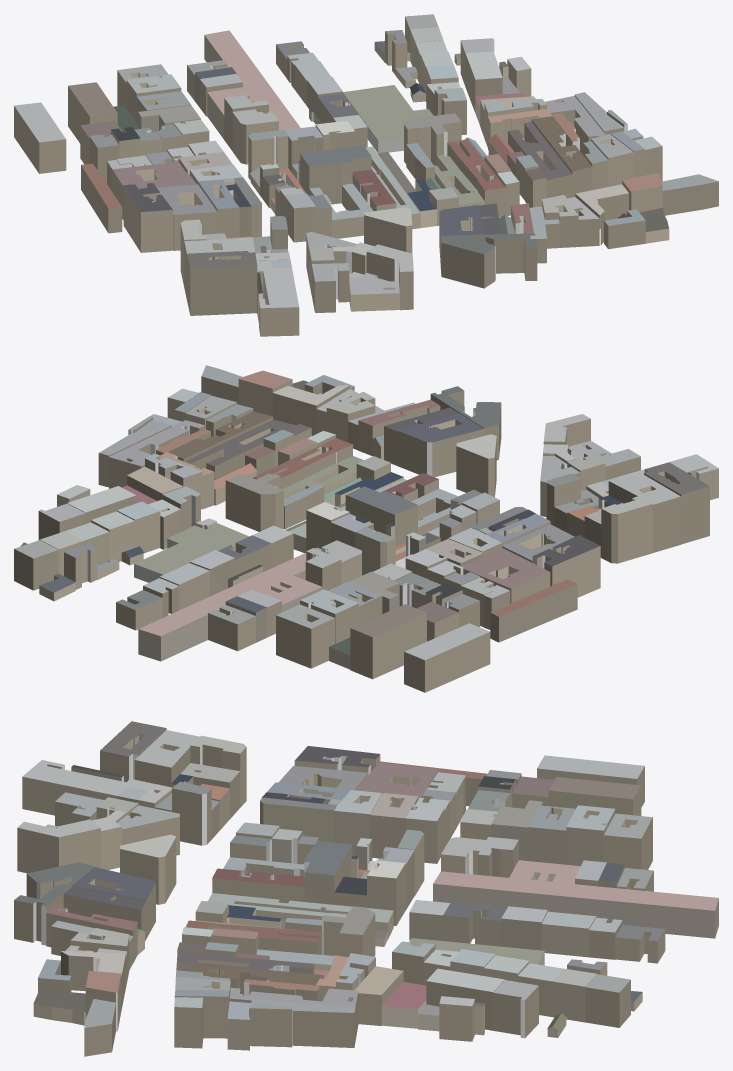
The picture shows the model from 3 angles, top to bottom: view 1: azimuth 30°, elevation 25°; view 2: azimuth 150°, elevation 25°; view 3: azimuth 270°, elevation 25°; orthographic projection. The views are drawn at different scales.
Parts seen in each view (by area): view 1: tuile; view 2: tuile; view 3: tuile.
Part boxes in pixels (x1,y1,x2,y2): tuile: [14, 14, 718, 336]; tuile: [14, 365, 718, 692]; tuile: [14, 721, 718, 1056].
Bounding box in the file's own units: 276 × 27.02 × 292.
